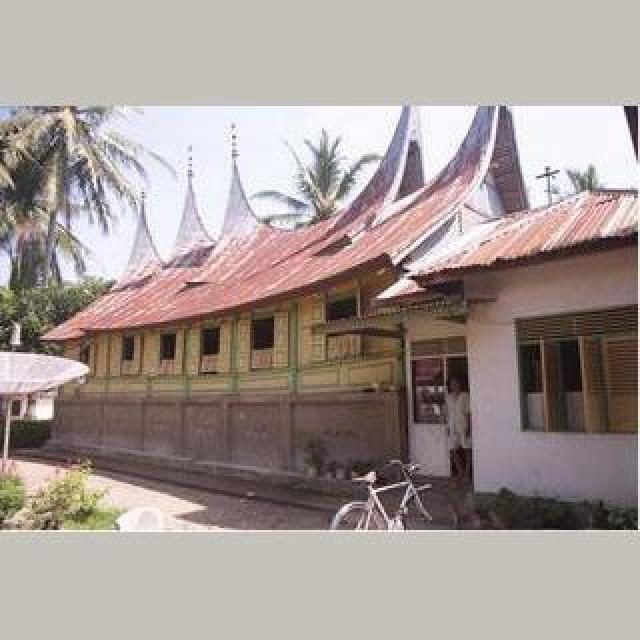MC-Bike: (440, 364, 474, 474)
Person: (330, 460, 460, 532)
